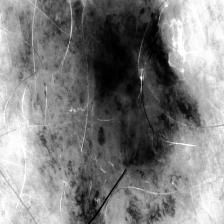Benign Marking or Mole: (6, 0, 200, 224)
